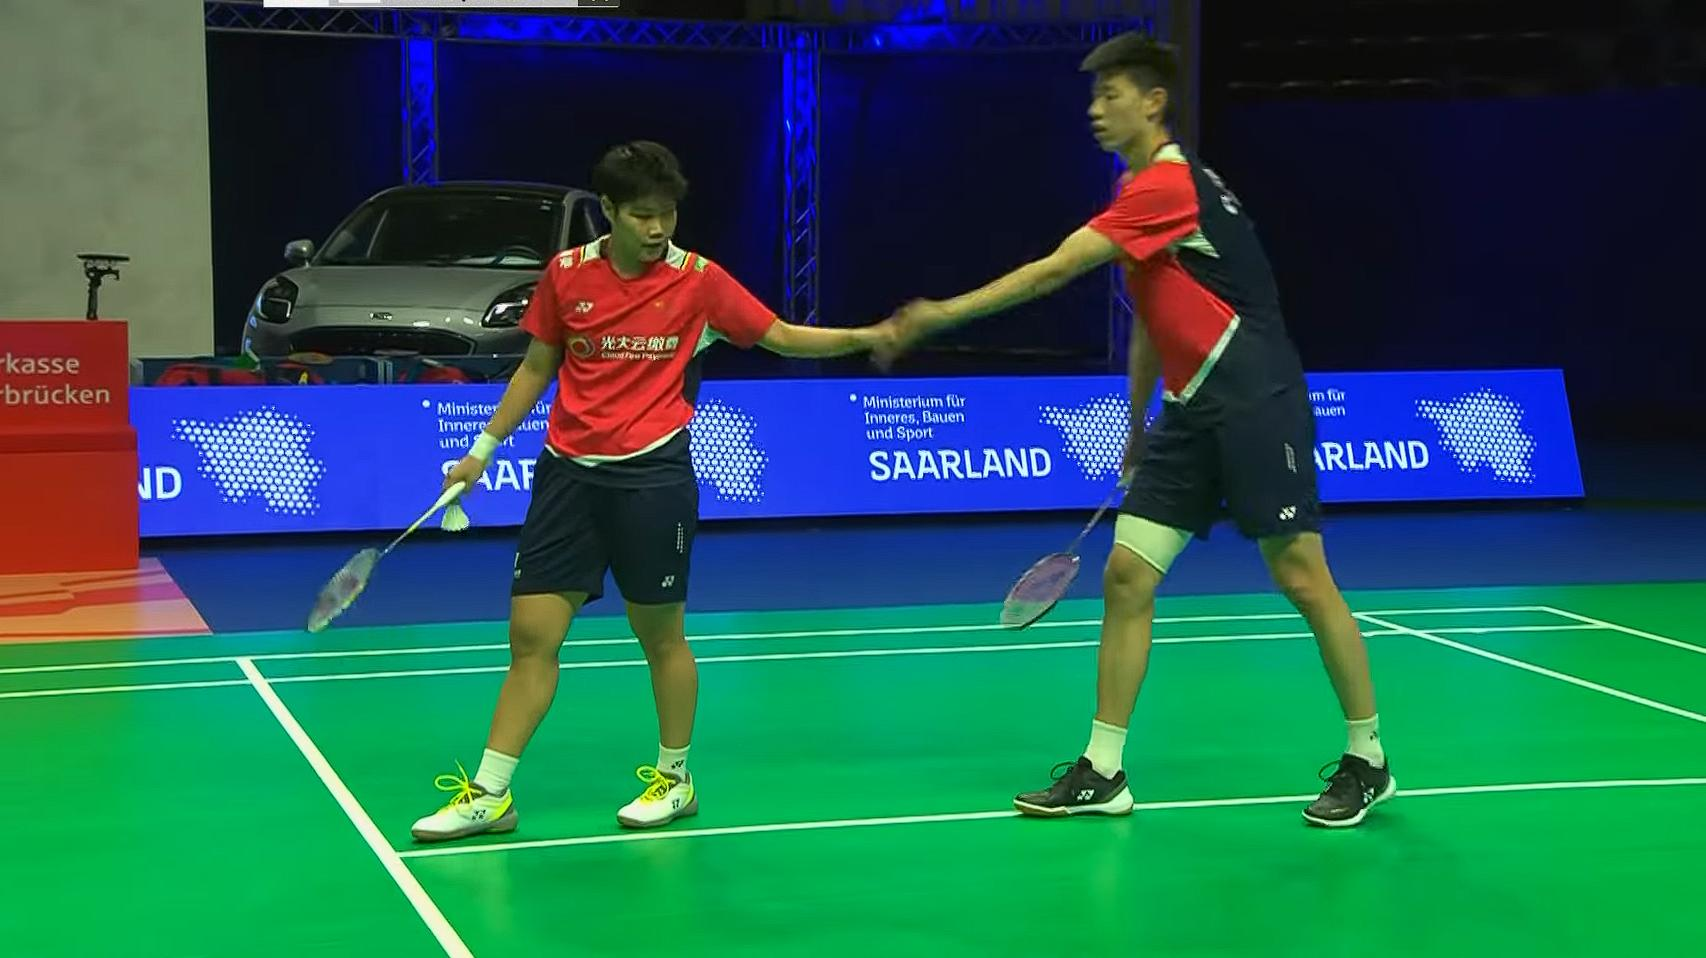racket: (285, 512, 410, 648), (992, 540, 1106, 666)
